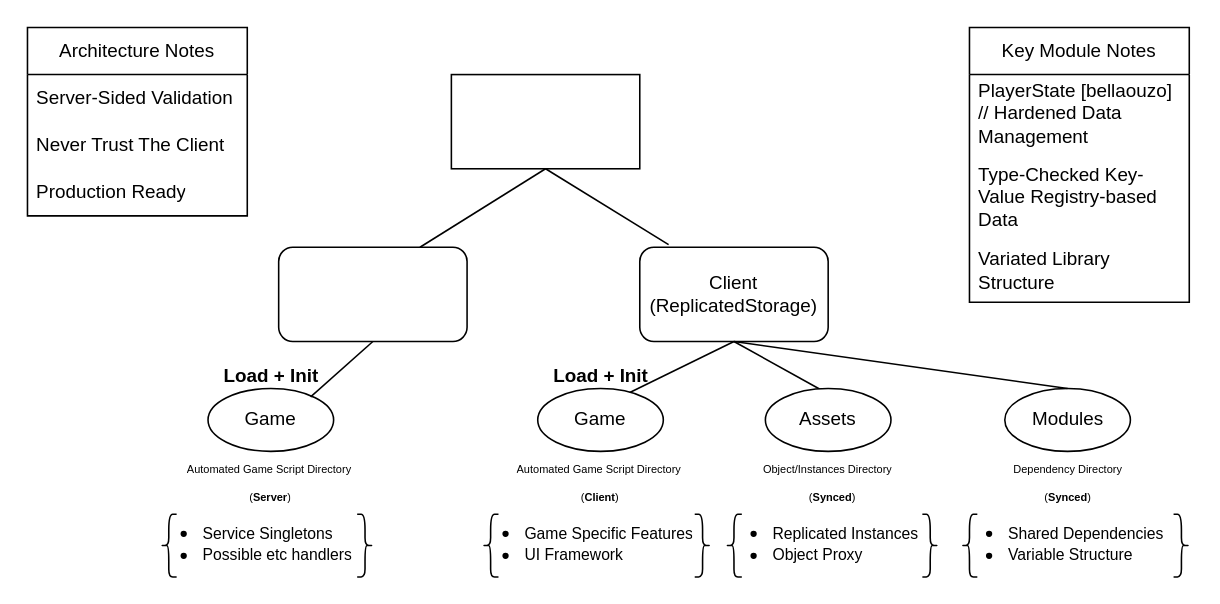
Image size: 1220x604. Some labels were removed from this diagram. Each missing label, with the centre of its shape:
"Module Loader (Automated Setup)" goes at point 545,121.
"Server (ServerScriptService)" goes at point 372,293.
